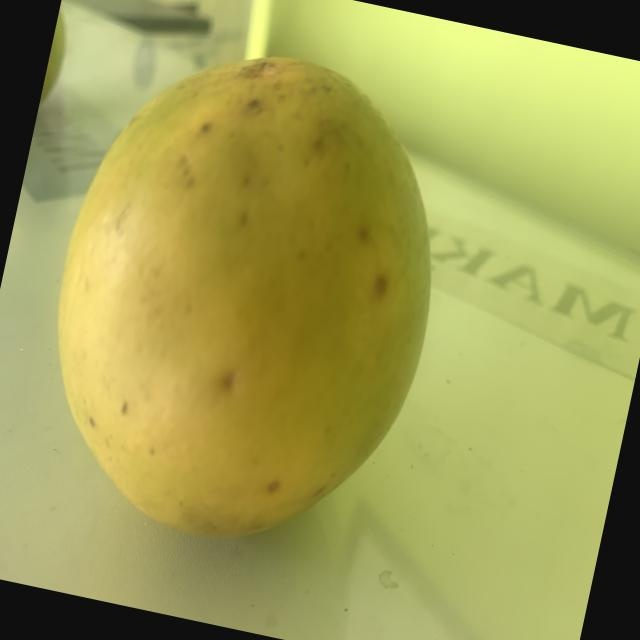agrume: (4, 7, 484, 593)
